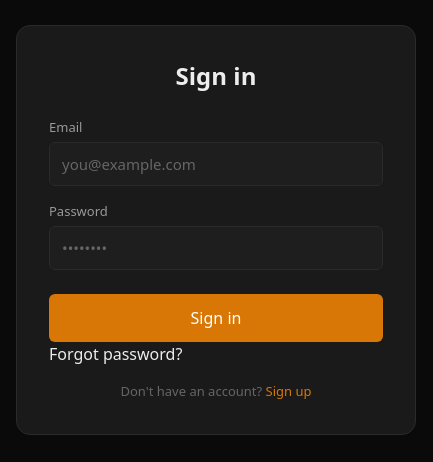
it: SignInPage › falls back to a generic error when signIn rejects with a non-Error value
Type "user@example.com" into the field labelled "Email" at (216, 164), box [49,142,383,186]
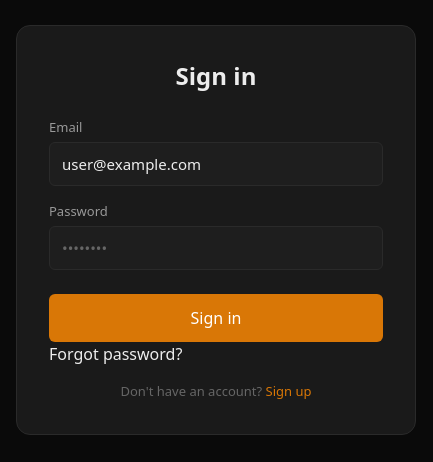
Type "wrongpass" into the password field labelled "Password" at (216, 248), box [49,226,383,270]
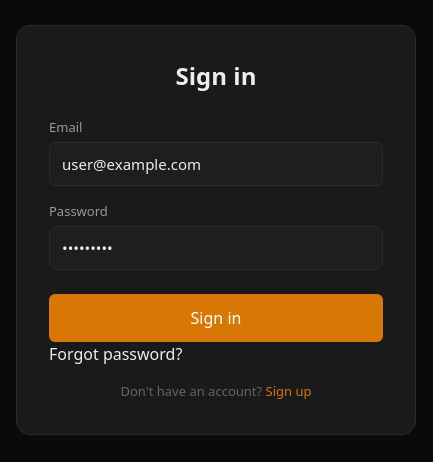
Click the button "Sign in" at (216, 318), box [49,294,383,342]
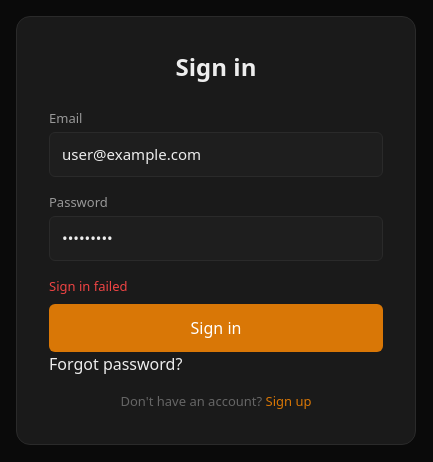
Expected: the text "Sign in failed" is shown, [49,276,128,294]
